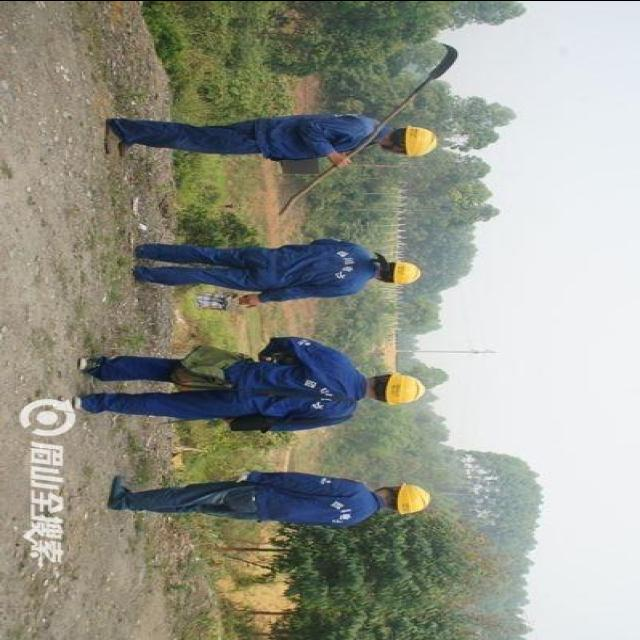helmet: (381, 365, 429, 408), (393, 476, 431, 514), (402, 120, 436, 158), (394, 260, 426, 286)
